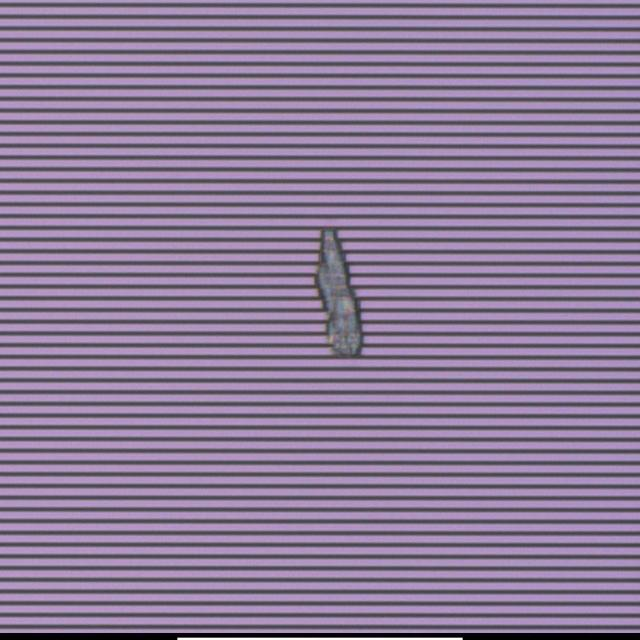03_intrusion: (292, 215, 380, 365)
